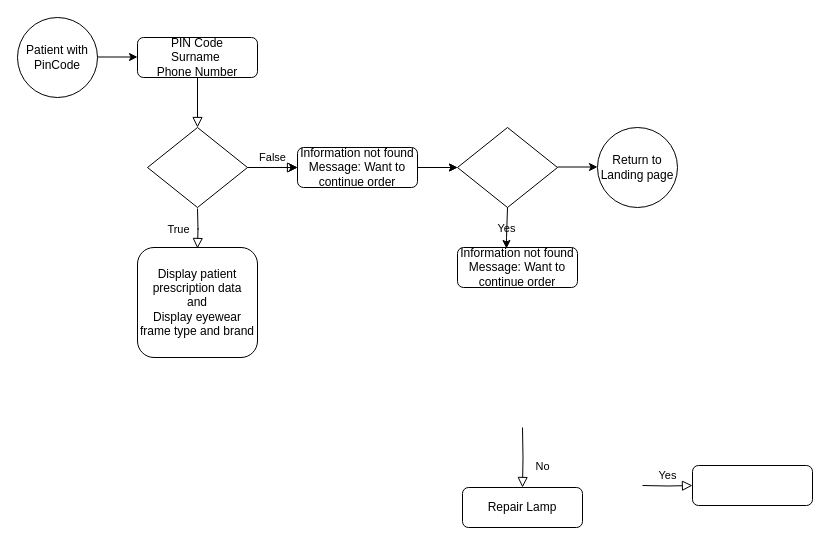
Some shapes in this 830 by 545 pixel diagram are drawn without their labels. Each missing label, with the centre of its shape:
"Replace Bulb" goes at (x=752, y=485).
"Validation" goes at (x=197, y=167).
"Yes/No" goes at (x=507, y=167).
